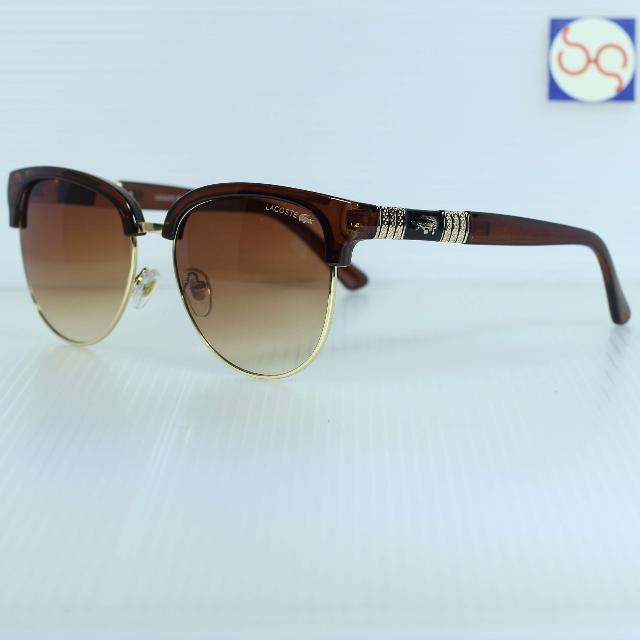Sunglasses: (2, 142, 634, 386)
